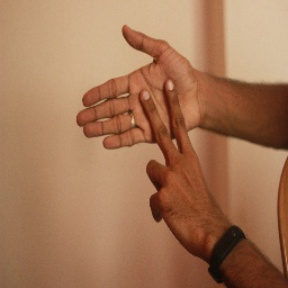N: (71, 19, 217, 204)
